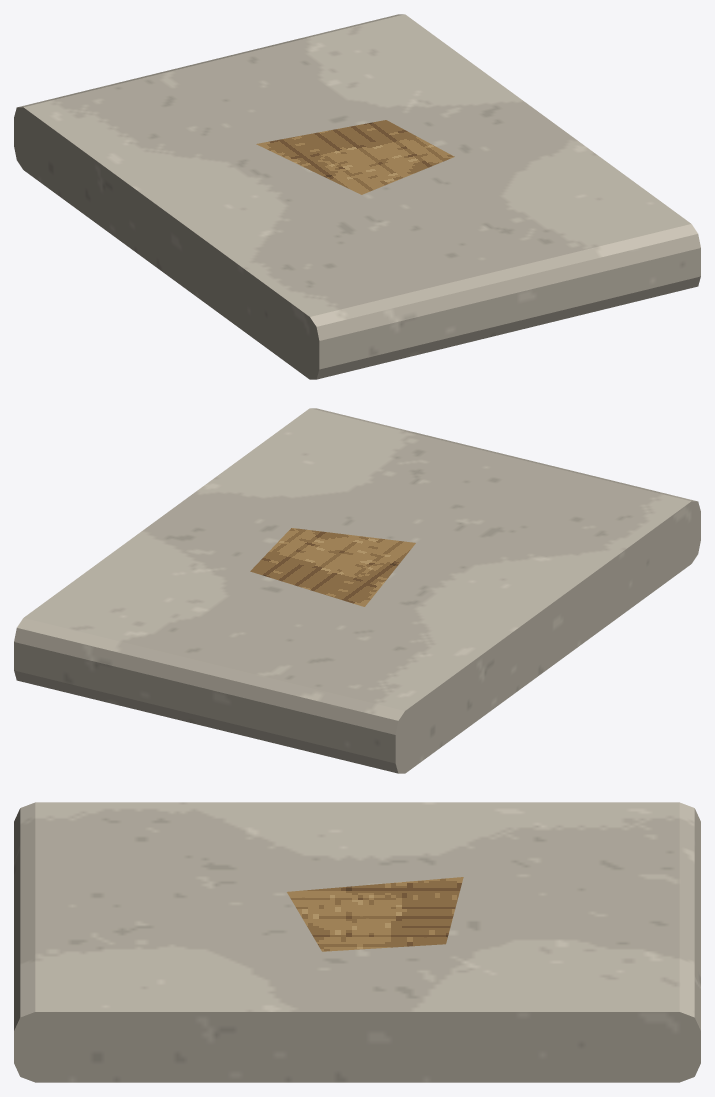
The model's file is RES_Mattress_Bare.obj.
The picture shows the model from 3 angles, top to bottom: view 1: azimuth 30°, elevation 25°; view 2: azimuth 150°, elevation 25°; view 3: azimuth 270°, elevation 25°; orthographic projection. The views are drawn at different scales.
Parts seen in each view (by area): view 1: RES_Mattress_Bare_Mesh_M_Int_DrywallLight, RES_Mattress_Bare_Mesh_M_Furn_Cardboard; view 2: RES_Mattress_Bare_Mesh_M_Int_DrywallLight, RES_Mattress_Bare_Mesh_M_Furn_Cardboard; view 3: RES_Mattress_Bare_Mesh_M_Int_DrywallLight, RES_Mattress_Bare_Mesh_M_Furn_Cardboard.
Part boxes in pixels (bbox=[...]): RES_Mattress_Bare_Mesh_M_Int_DrywallLight: bbox=[14, 14, 700, 379]; RES_Mattress_Bare_Mesh_M_Furn_Cardboard: bbox=[256, 120, 454, 194]; RES_Mattress_Bare_Mesh_M_Int_DrywallLight: bbox=[14, 408, 700, 773]; RES_Mattress_Bare_Mesh_M_Furn_Cardboard: bbox=[250, 528, 415, 606]; RES_Mattress_Bare_Mesh_M_Int_DrywallLight: bbox=[14, 802, 700, 1082]; RES_Mattress_Bare_Mesh_M_Furn_Cardboard: bbox=[287, 877, 463, 951].
Bounding box in the file's own units: 1.4 × 0.221 × 1.94.
Materials: 2 (2 with a texture image).
